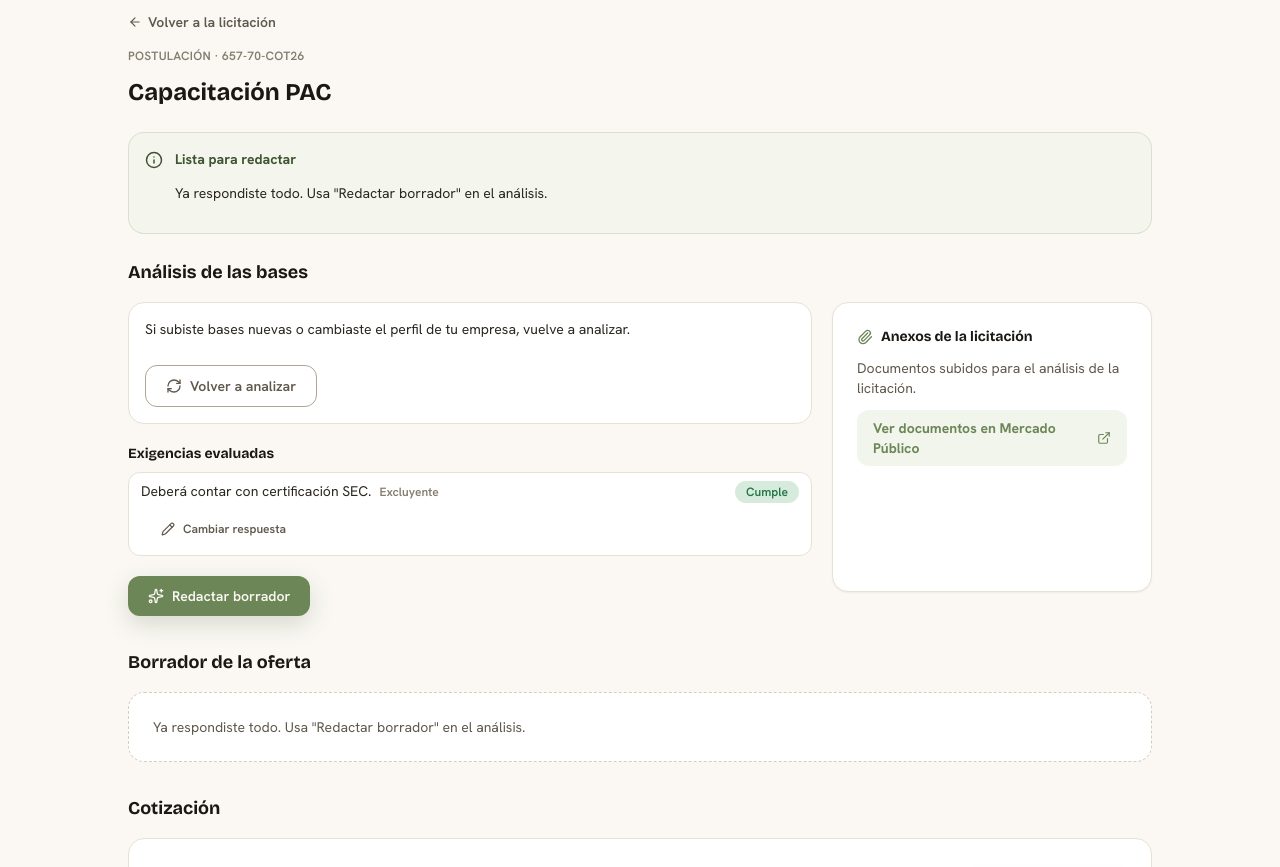
ProposalView › un error de una acción se muestra sin perder la vista
Click the button "Redactar borrador" at (219, 596), box [128,576,310,616]
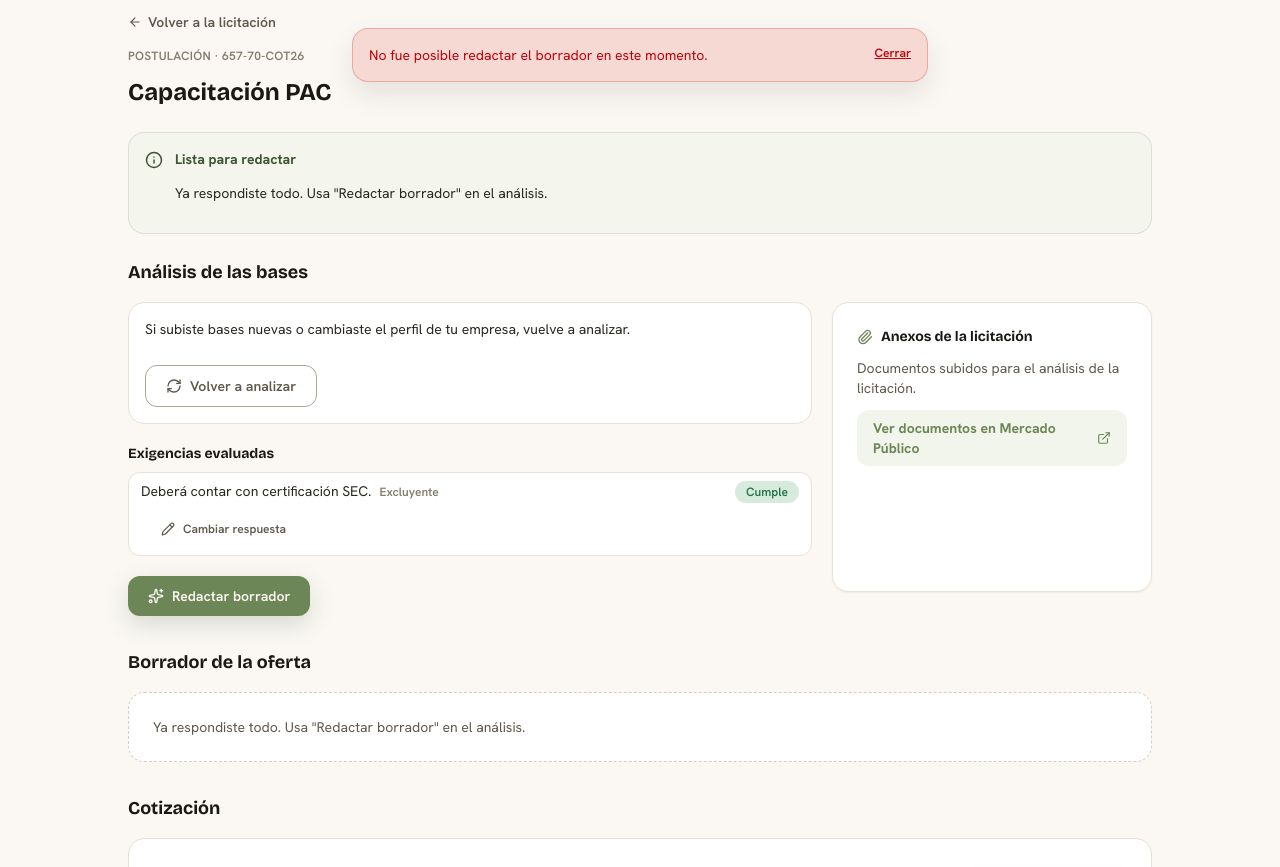
Expected: the heading "Exigencias evaluadas" is shown, [128,445,274,462]
Now the text "No fue posible redactar el borrador en este momento." is shown, box [369,45,708,65]
